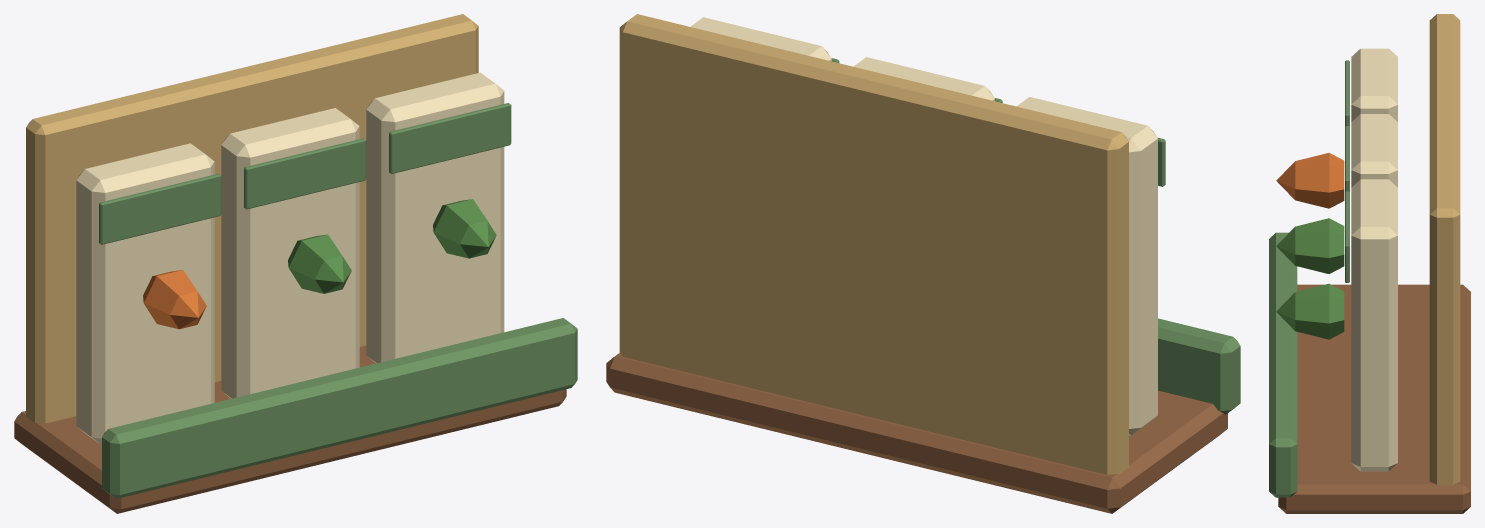
File: 07_Seed_Packet_Display.glb
3 renders of one model, left to right at view 1: azimuth 30°, elevation 25°; view 2: azimuth 150°, elevation 25°; view 3: azimuth 270°, elevation 25°, orthographic. The views are drawn at different scales.
Parts seen in each view (by area): view 1: 07_Seed_Packet_Display__Body; view 2: 07_Seed_Packet_Display__Body; view 3: 07_Seed_Packet_Display__Body.
Boxes of the visible parts, box(x1,y1,x2,y2) form: 07_Seed_Packet_Display__Body: box(14, 14, 577, 513); 07_Seed_Packet_Display__Body: box(606, 14, 1240, 513); 07_Seed_Packet_Display__Body: box(1269, 14, 1470, 513).
Size of the model in its own units: 2.13 by 1.43 by 0.86.
1 material, 1 textured.
